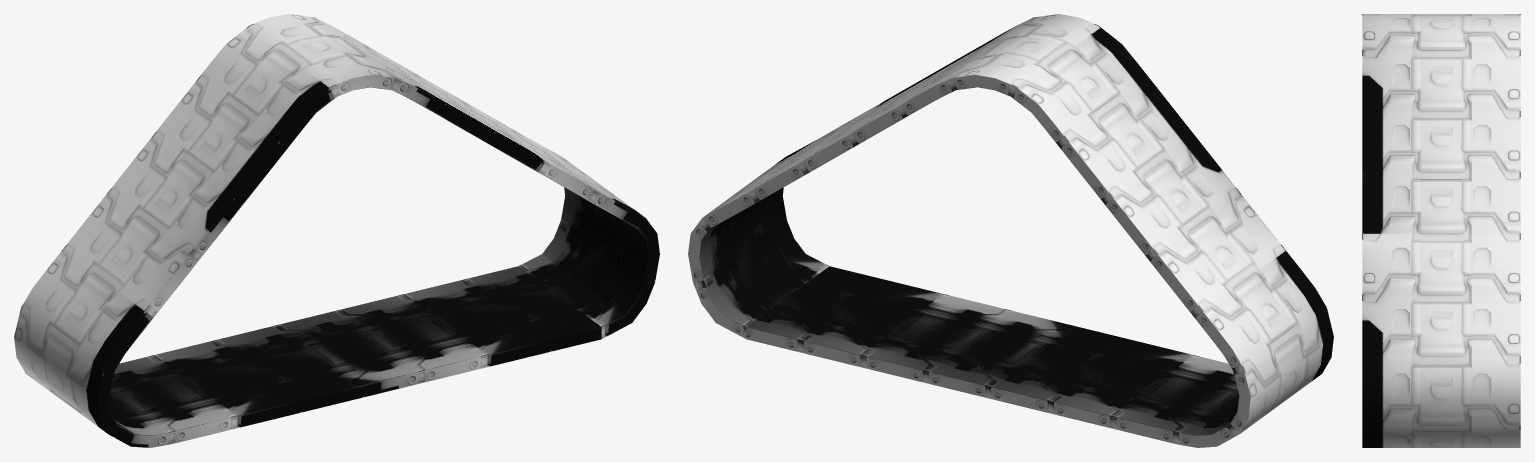
The model's file is Worker_track.fbx.
3 views of the same model, side by side, from view 1: azimuth 30°, elevation 25°; view 2: azimuth 150°, elevation 25°; view 3: azimuth 270°, elevation 25° (orthographic). The views are drawn at different scales.
Parts seen in each view (by area): view 1: Worker_track; view 2: Worker_track; view 3: Worker_track.
Part boxes in pixels (bbox=[...]): Worker_track: bbox=[14, 14, 659, 447]; Worker_track: bbox=[688, 14, 1333, 447]; Worker_track: bbox=[1362, 14, 1520, 447].
Size of the model in its own units: 117 by 64.02 by 30.
